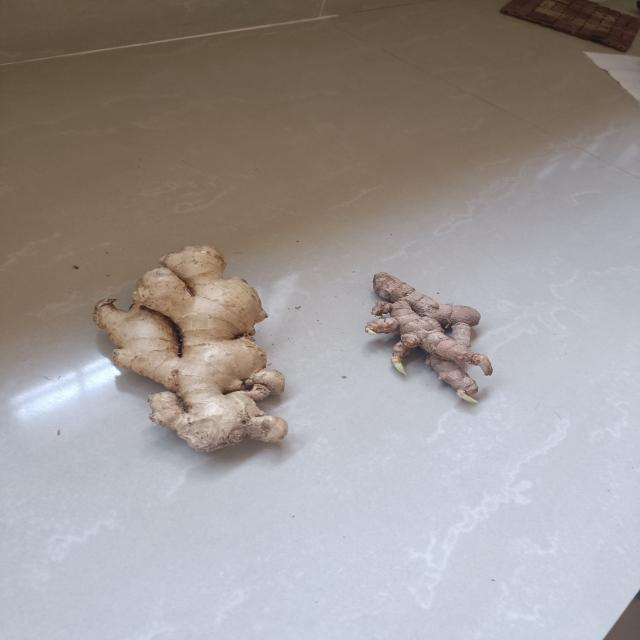ginger: (90, 242, 290, 457), (369, 267, 493, 409)
